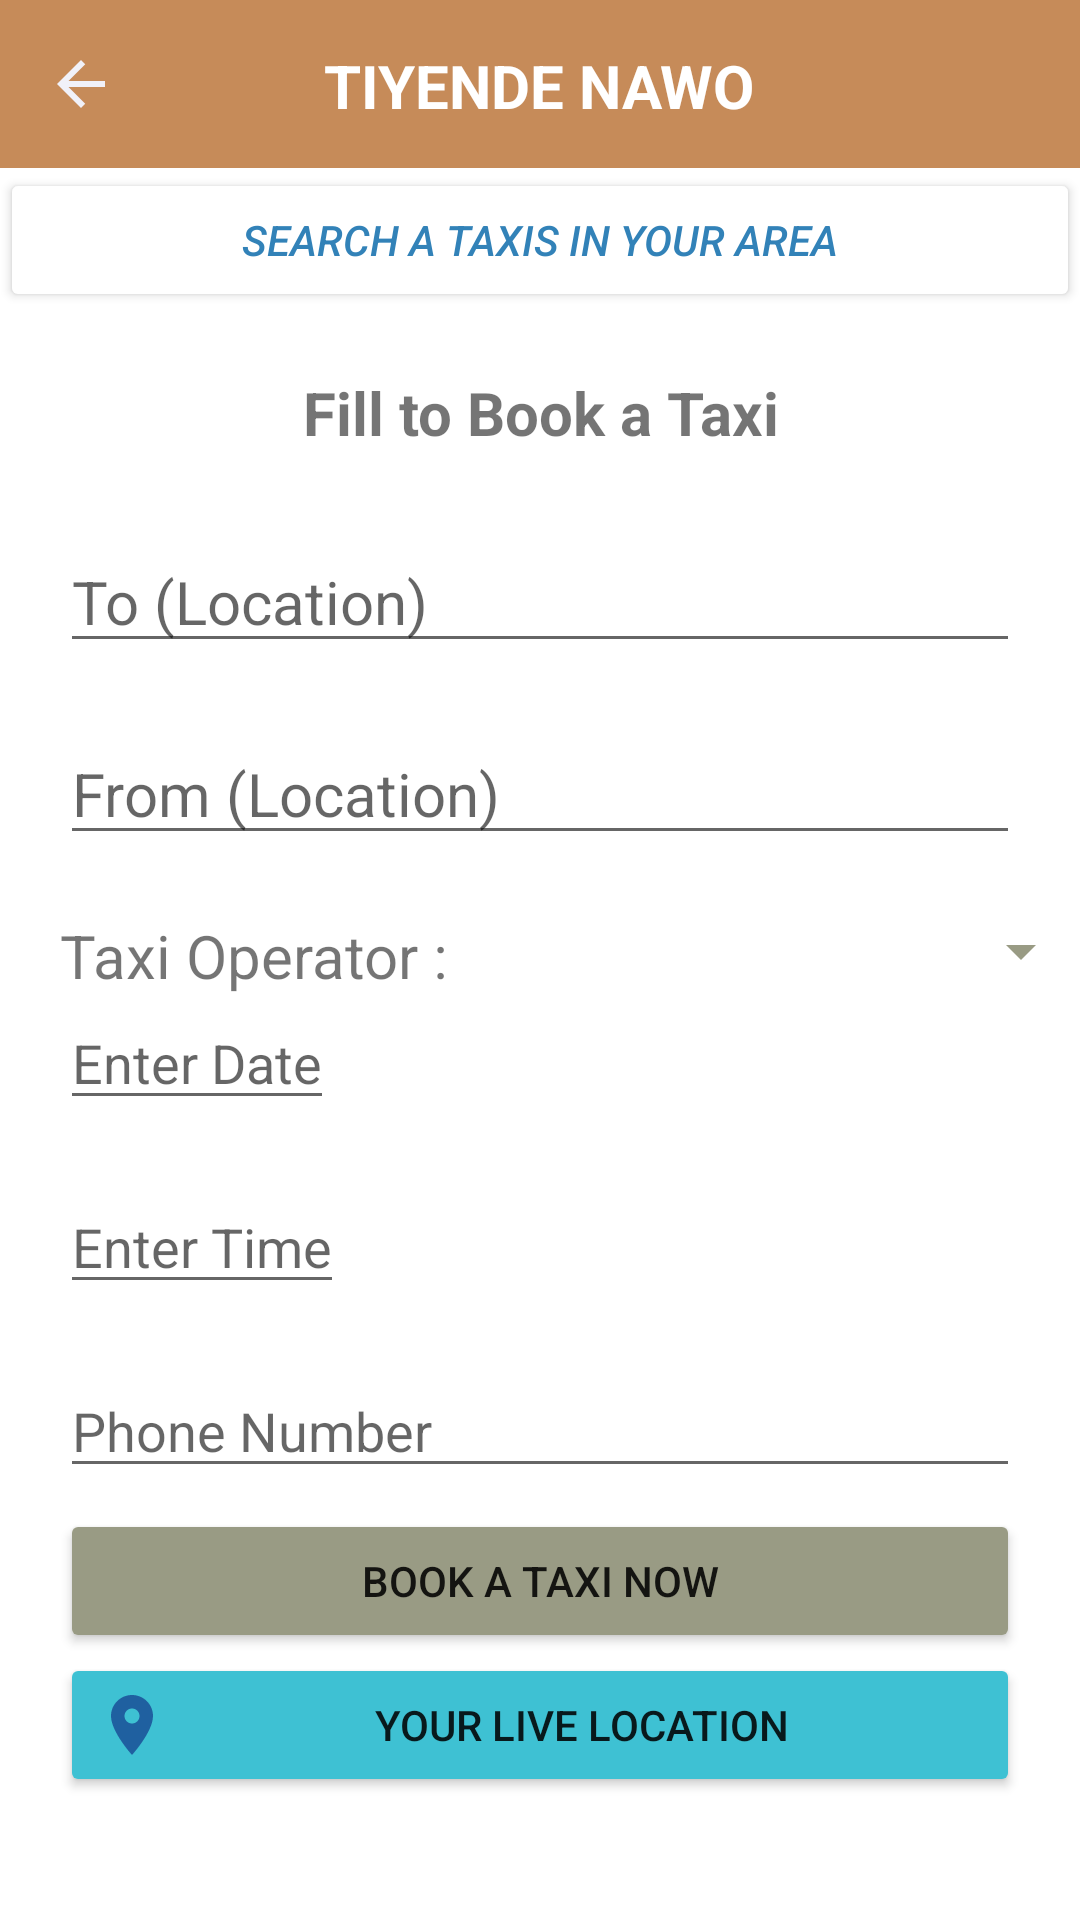

Screen size 1080×1920. Icon name, then its box in pixels as (x1, y1, x2, y2):
goback arrow: (57, 60, 105, 108)
